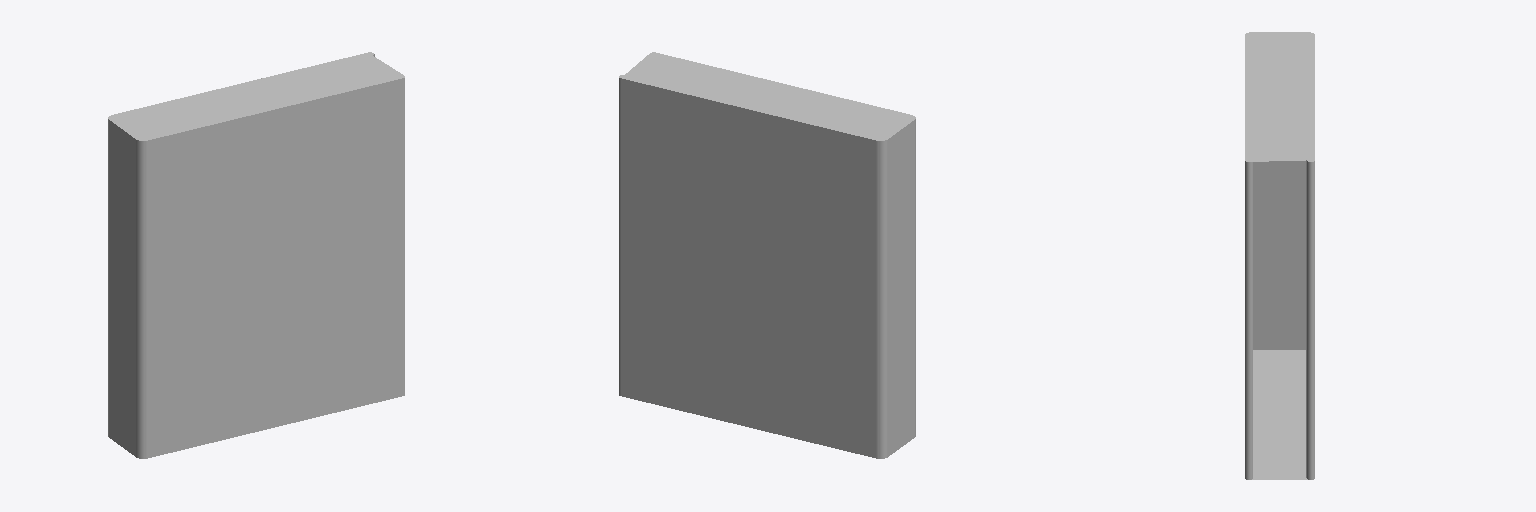
Rendered from books__9.obj.
3 views of the same model, side by side, from view 1: azimuth 30°, elevation 25°; view 2: azimuth 150°, elevation 25°; view 3: azimuth 270°, elevation 25° (orthographic).
Parts seen in each view (by area): view 1: grp9; view 2: grp9; view 3: grp9.
Part boxes in pixels (left/top/right/bottom): grp9: left=108, top=52, right=404, bottom=458; grp9: left=619, top=52, right=915, bottom=458; grp9: left=1245, top=32, right=1314, bottom=479.
Size of the model in its own units: 131 by 149 by 29.82.